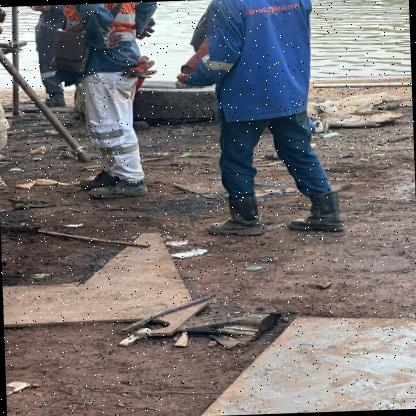bota: (286, 188, 350, 238), (204, 192, 267, 240), (86, 177, 150, 200), (80, 169, 116, 189), (36, 92, 68, 108)
